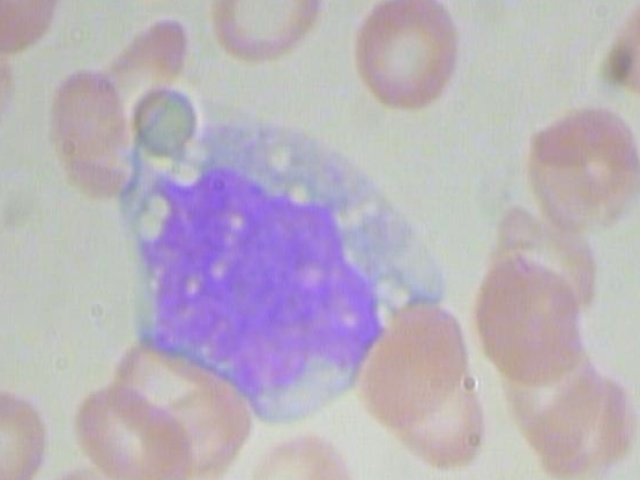RBC: (349, 293, 487, 433), (520, 97, 640, 237), (468, 247, 586, 385), (342, 0, 471, 125), (62, 378, 200, 480), (44, 58, 138, 197), (211, 0, 327, 63)
WBC: (105, 104, 464, 428)
